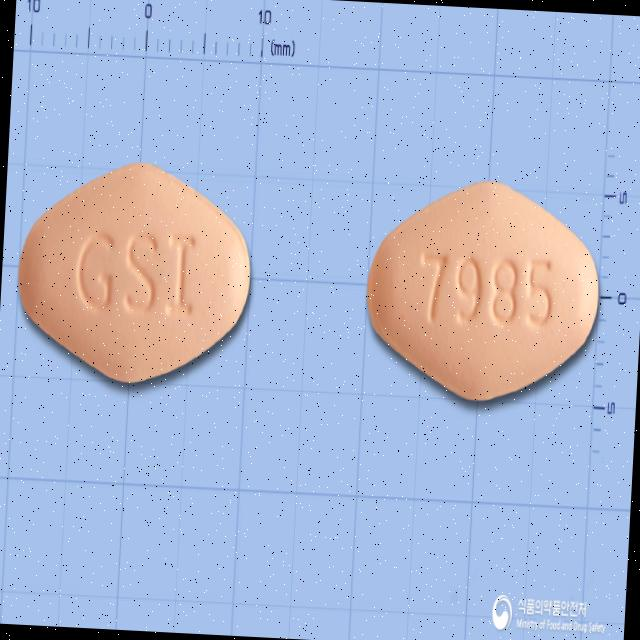Harvoni: (362, 174, 606, 408), (13, 157, 257, 390)
